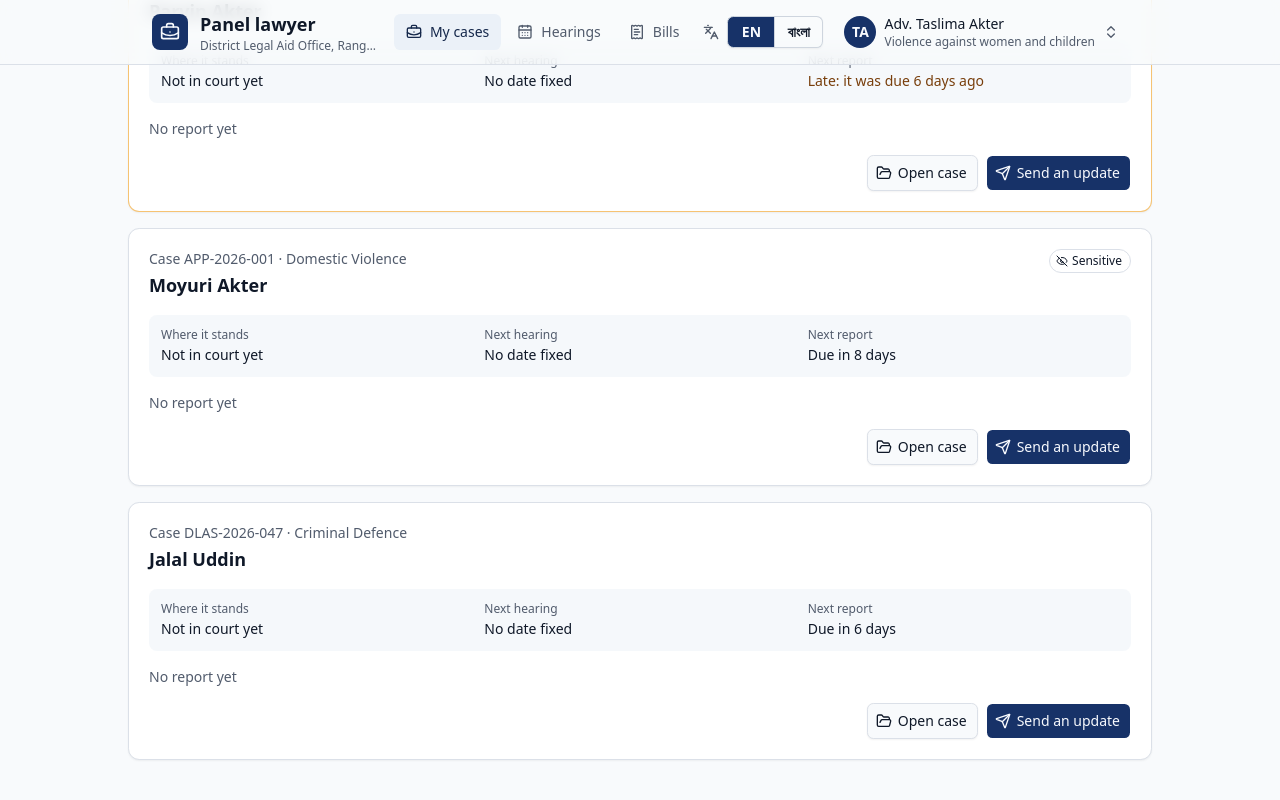
the court record, from the server › is fetched only when the lawyer opens the case, with their ID, and shown
The image size is (1280, 800).
(page scrolled)
Click the link "Jalal Uddin" at (198, 559), box [149,547,246,571]
(page scrolled)
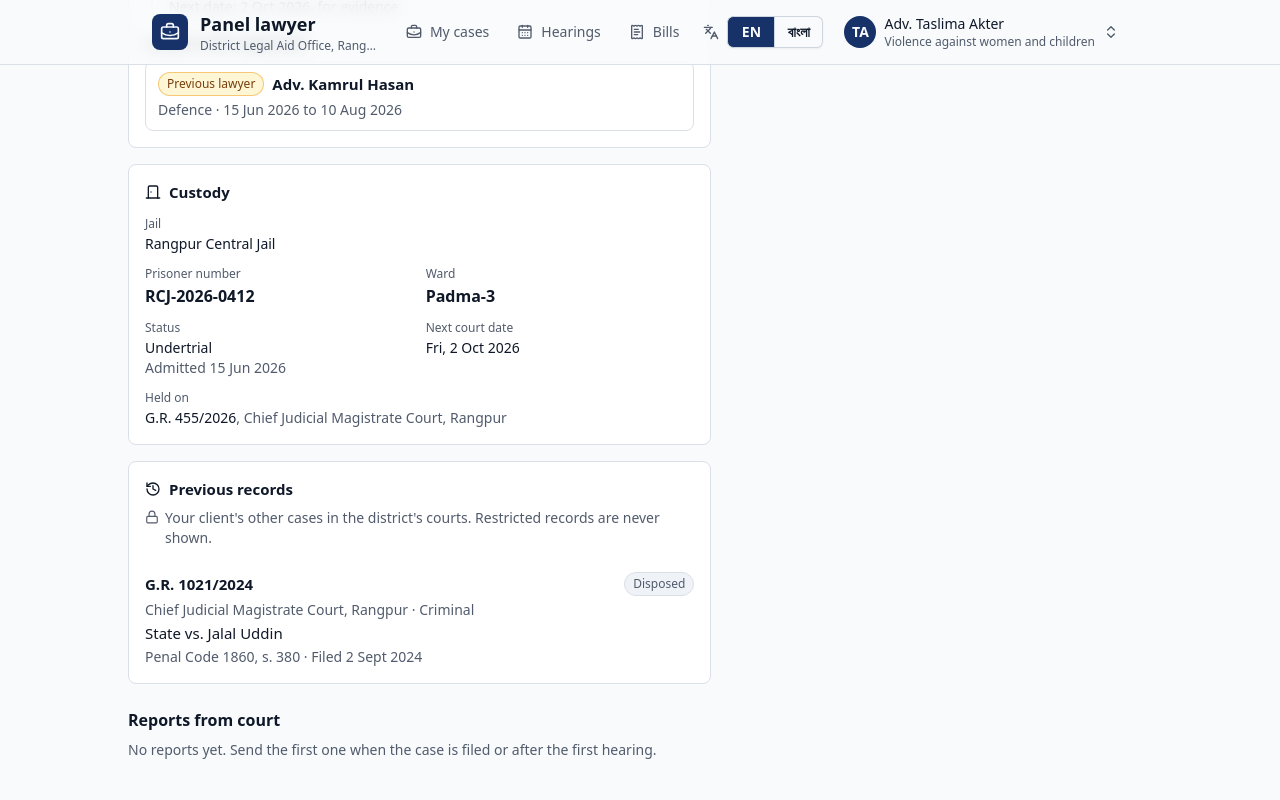
Result: the element "Custody" shows "RCJ-2026-0412" at [145,284,255,306]
Result: the element "Custody" shows "Padma-3" at [426,284,495,306]
Result: the element "Previous records" shows "G.R. 1021/2024" at [145,574,253,594]
